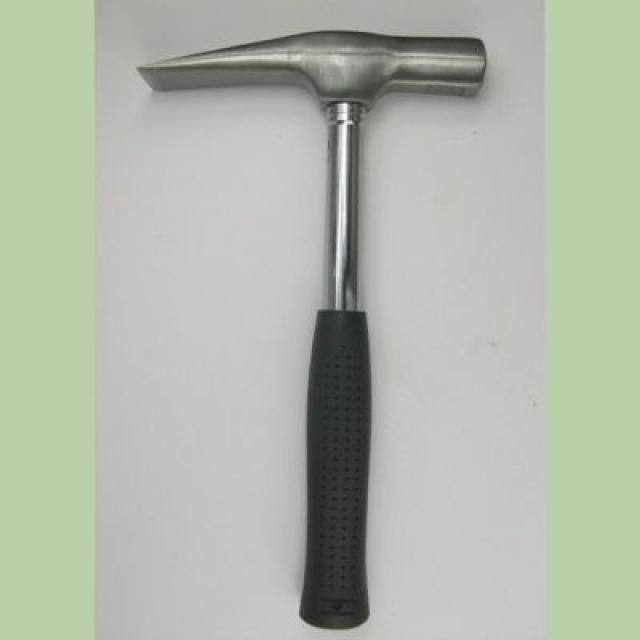hammer: (122, 19, 500, 634)
